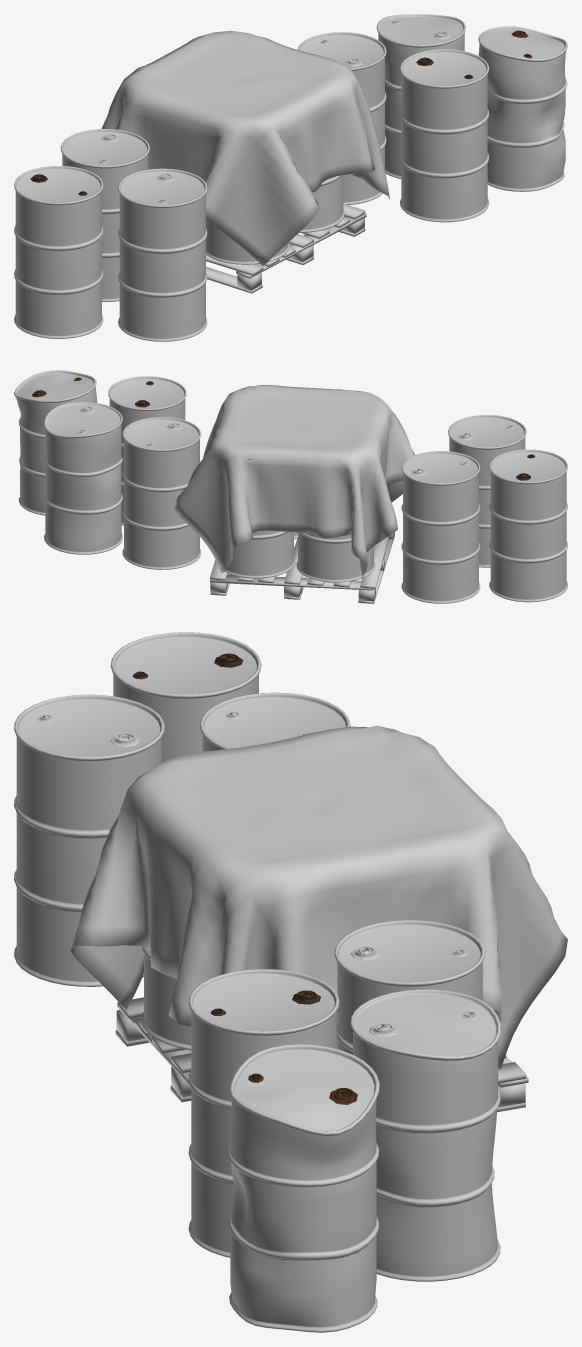
File: Industrial_Updated.fbx
3 views of the same model, one above another, from view 1: azimuth 30°, elevation 25°; view 2: azimuth 150°, elevation 25°; view 3: azimuth 270°, elevation 25° (orthographic). The views are drawn at different scales.
Visible parts, largest first — view 1: Tarp, Barrel3_low.001, Barrel4_low, Barrel4_low_v2, Barrel5_v2_low, Barrel3_low, Barrel5_low.002, Barrel1_low.001, Pallet, Barrel2_low.002, Barrel2_v2_low.002; view 2: Tarp, Barrel4_low_v2, Barrel5_low.002, Barrel3_low, Barrel1_low.001, Barrel5_v2_low, Barrel3_low.001, Barrel4_low, Pallet, Barrel2_v2_low, Barrel2_low; view 3: Tarp, Barrel5_v2_low, Barrel5_low.002, Barrel3_low.001, Barrel4_low, Barrel4_low_v2, Barrel1_low.001, Barrel3_low, Pallet, Barrel2_v2_low.002.
Part boxes in pixels (x1,y1,x2,y2): Tarp: (101,30,389,265); Barrel3_low.001: (118,168,207,341); Barrel4_low: (400,49,489,222); Barrel4_low_v2: (14,166,103,338); Barrel5_v2_low: (478,26,567,191); Barrel3_low: (60,129,149,301); Barrel5_low.002: (376,14,465,178); Barrel1_low.001: (297,32,386,204); Pallet: (206,203,366,293); Barrel2_low.002: (299,175,344,232); Barrel2_v2_low.002: (206,219,289,264); Tarp: (174,385,414,579); Barrel4_low_v2: (489,449,567,602); Barrel5_low.002: (44,402,122,554); Barrel3_low: (401,451,480,603); Barrel1_low.001: (122,417,201,569); Barrel5_v2_low: (14,370,97,515); Barrel3_low.001: (448,415,526,567); Barrel4_low: (108,376,186,525); Pallet: (210,532,394,603); Barrel2_v2_low: (296,532,375,582); Barrel2_low: (217,458,295,578); Tarp: (69,725,567,1069); Barrel5_v2_low: (227,1044,379,1332); Barrel5_low.002: (350,989,500,1281); Barrel3_low.001: (14,694,164,986); Barrel4_low: (188,969,339,1257); Barrel4_low_v2: (110,632,261,761); Barrel1_low.001: (334,920,485,1054); Barrel3_low: (199,692,350,751); Pallet: (115,997,528,1112); Barrel2_v2_low.002: (141,947,191,1050).
Bounding box in the file's own units: 307 × 83.21 × 151.
